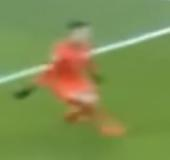goalkeeper: (6, 11, 137, 146)
